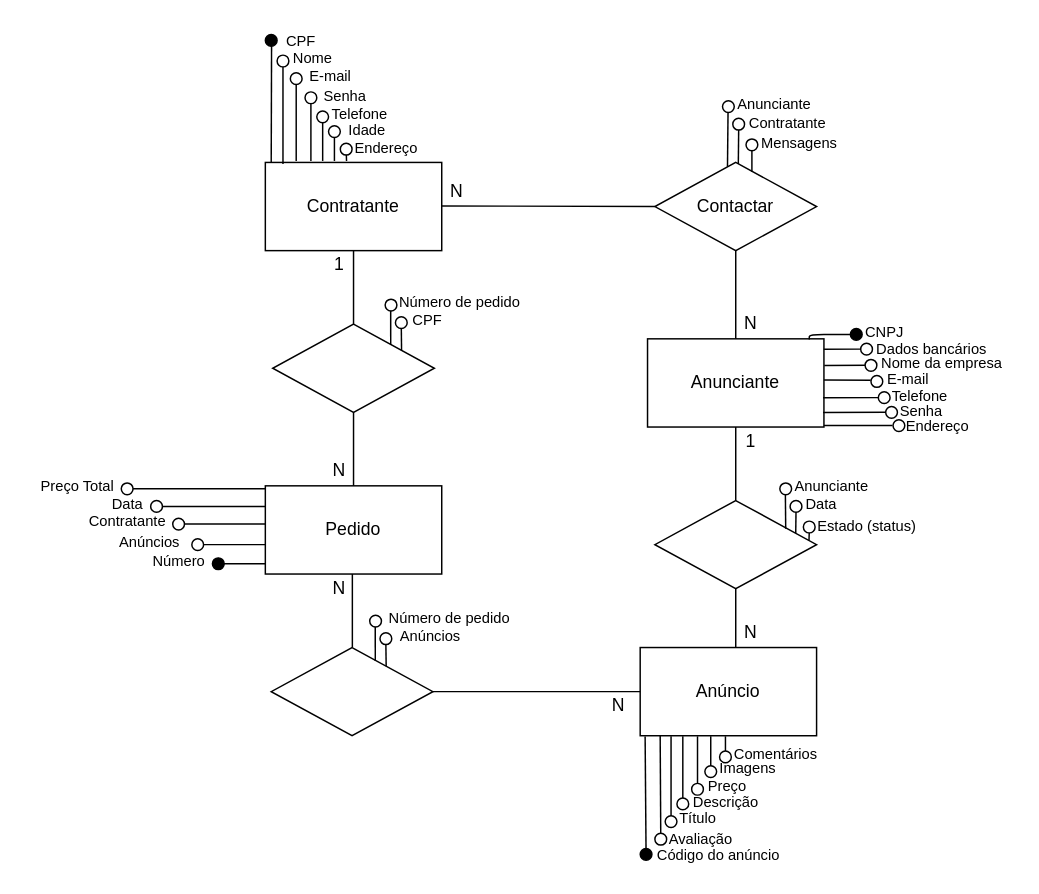
This 1039x894 diagram has some shape labels left out. Here are the shapes that lost their labels. From the top down, the centre of each, then its label:
the point at 352,367: Contratar
the point at 735,544: Publicar
the point at 351,691: Agrupar
